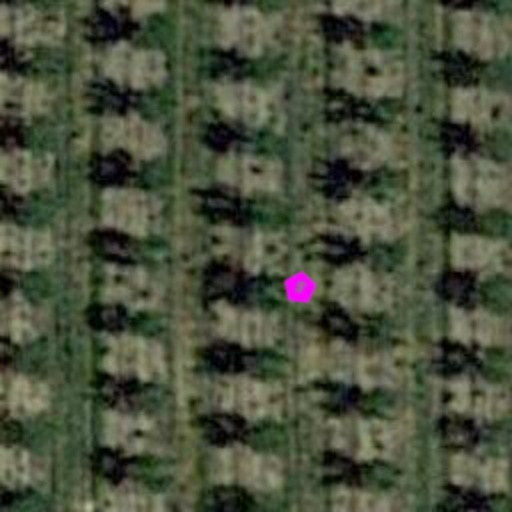pentagon: (276, 264, 324, 312)
